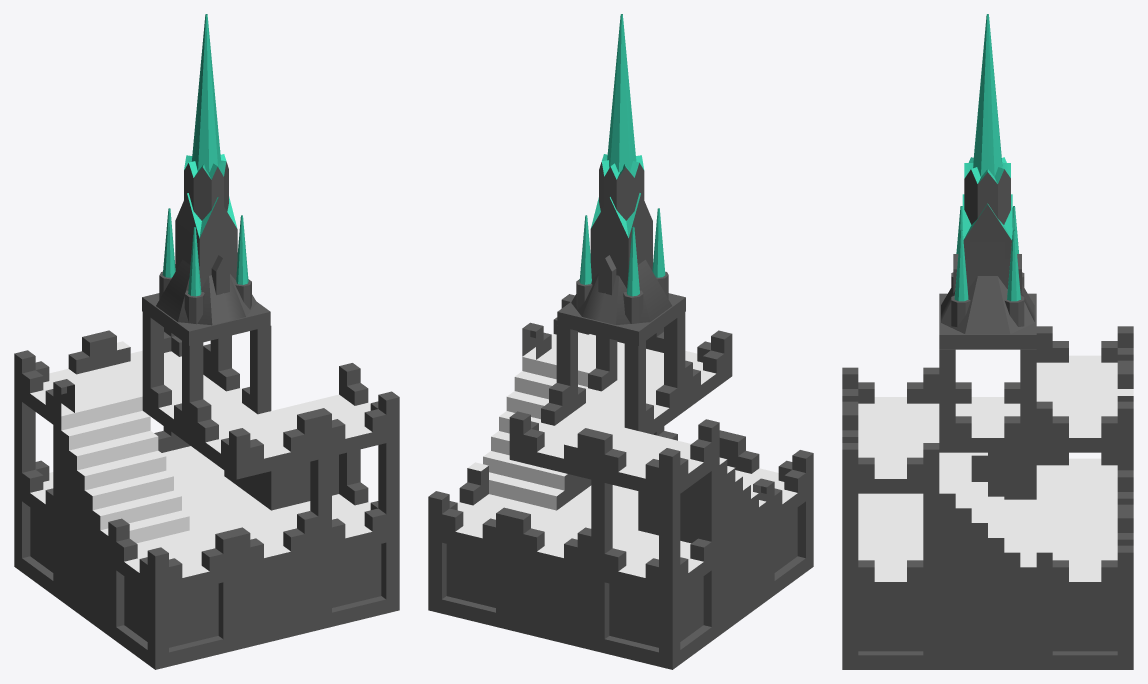
File: tower-small.glb
3 renders of one model, left to right at view 1: azimuth 30°, elevation 25°; view 2: azimuth 150°, elevation 25°; view 3: azimuth 270°, elevation 25°, orthographic. The views are drawn at different scales.
Parts seen in each view (by area): view 1: level; view 2: level; view 3: level.
Boxes of the visible parts, <box> form: level: <box>14,14,399,669</box>; level: <box>428,14,813,669</box>; level: <box>842,14,1133,669</box>.
Size of what is drawn, in the model's own units: 3 by 6.74 by 3.
